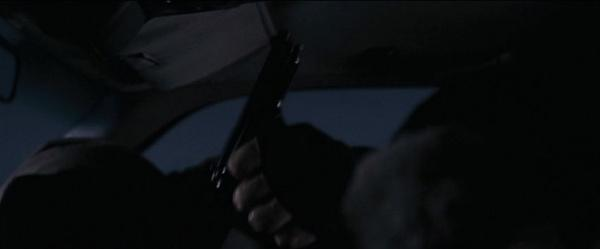Gun: (211, 23, 306, 196)
